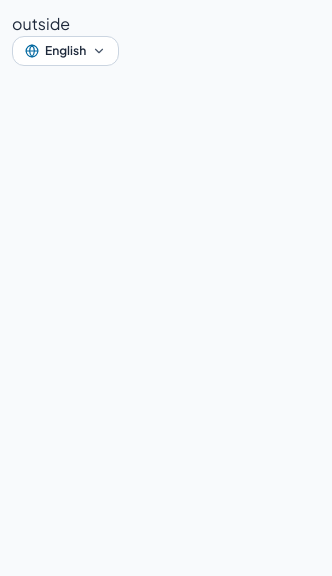
it: LanguagePicker, WhenWillItGetBetter, and TodayPlanTab › LanguagePicker opens dropdown, selects a language, and closes on outside click
This screenshot has width=332, height=576.
Click the button with aria-label "Select language" at (66, 51), box 12,36 -> 119,66
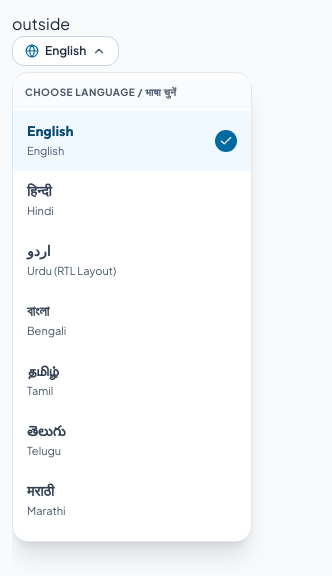
Result: the list is shown at 12,72 -> 252,542
Press the mouse on the text with test id "outside" at (41, 24), box 12,13 -> 70,34
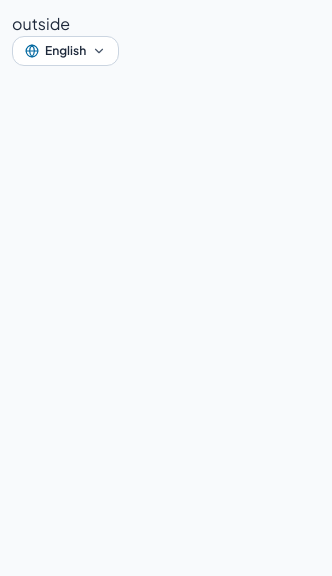
Result: the list is gone
Click the button with aria-label "Select language" at (66, 51), box 12,36 -> 119,66
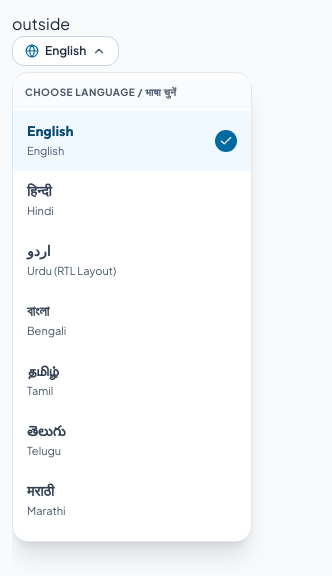
Click the option "हिन्दी Hindi" at (132, 201), box 13,171 -> 251,231
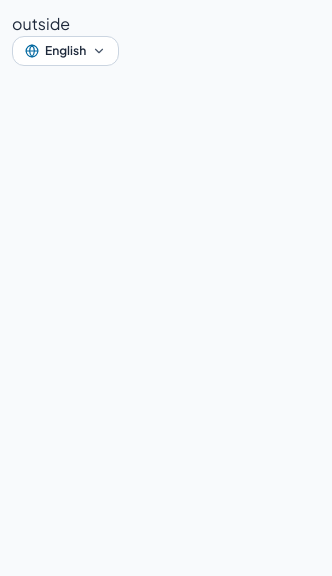
Result: the list is gone
